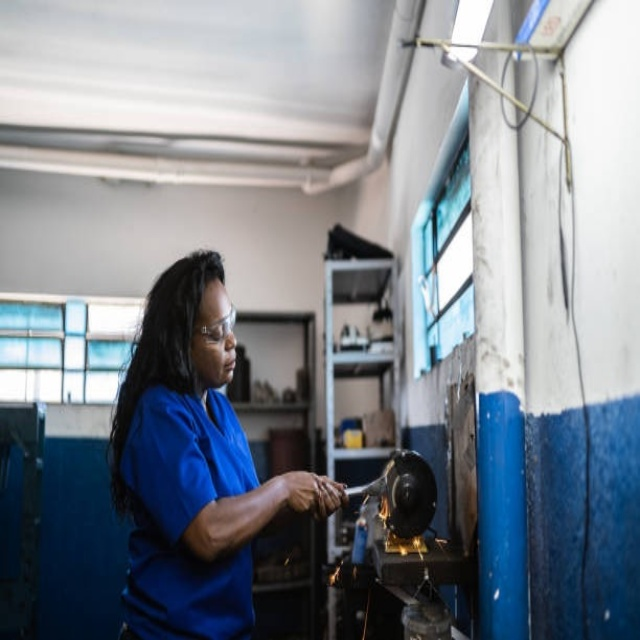Gafas: (193, 305, 238, 343)
Sin_guantes: (286, 470, 343, 518)
Sin_mascara: (213, 351, 239, 383)
